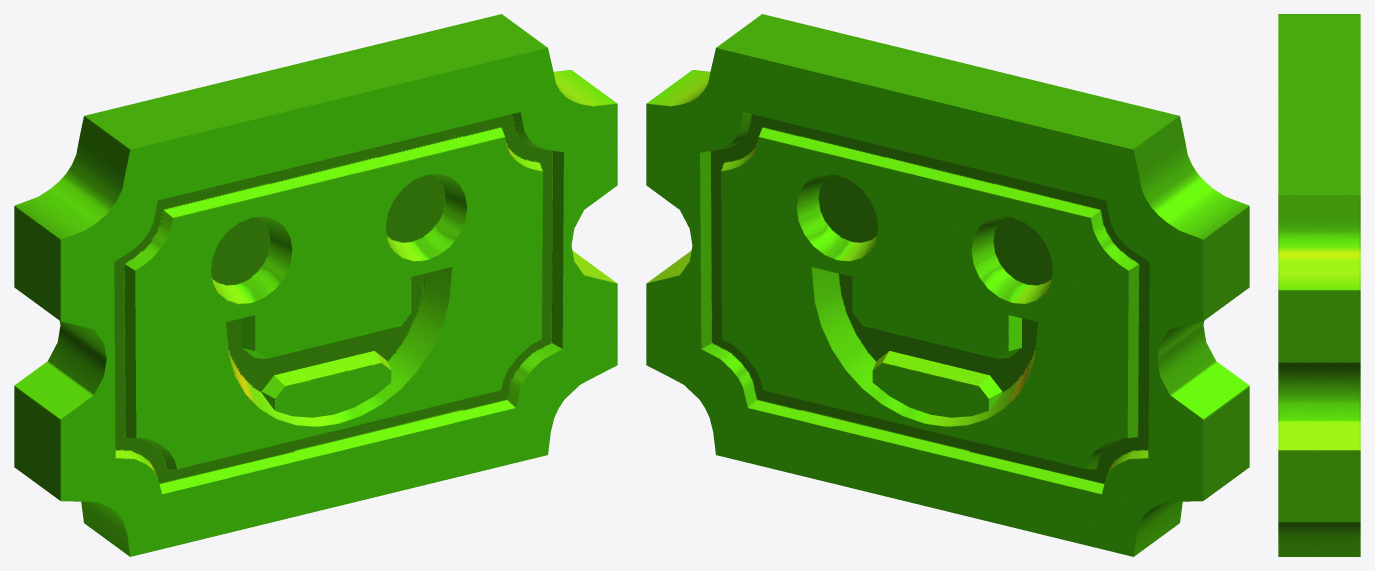
Rendered from ticket.fbx.
3 renders of one model, left to right at view 1: azimuth 30°, elevation 25°; view 2: azimuth 150°, elevation 25°; view 3: azimuth 270°, elevation 25°, orthographic. The views are drawn at different scales.
Visible parts, largest first — view 1: ticket; view 2: ticket; view 3: ticket.
Part boxes in pixels (x1,y1,x2,y2): ticket: (14, 14, 617, 556); ticket: (646, 14, 1249, 556); ticket: (1278, 14, 1360, 556).
Bounding box in the file's own units: 680 × 475 × 97.87.
Materials: 1 (1 with a texture image).
